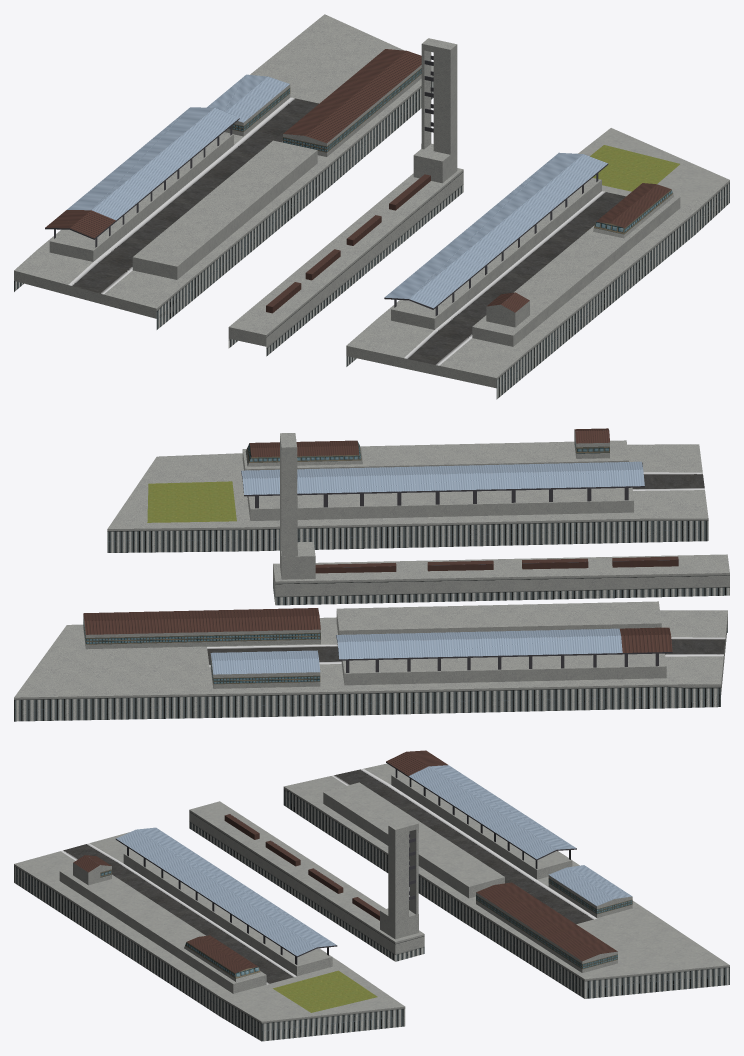
Rendered from Canada_track_landmark_02.dae.
3 views of the same model, one above another, from view 1: azimuth 30°, elevation 25°; view 2: azimuth 150°, elevation 25°; view 3: azimuth 270°, elevation 25° (orthographic). The views are drawn at different scales.
Visible parts, largest first — view 1: Canada_track_Landmark_02; view 2: Canada_track_Landmark_02; view 3: Canada_track_Landmark_02.
Part boxes in pixels (box(x1,y1,x2,y2)): Canada_track_Landmark_02: box(14, 14, 729, 399); Canada_track_Landmark_02: box(14, 428, 729, 721); Canada_track_Landmark_02: box(14, 750, 729, 1041).
Size of the model in its own units: 7.63 by 8.71 by 1.74.
Materials: 6 (6 with a texture image).
